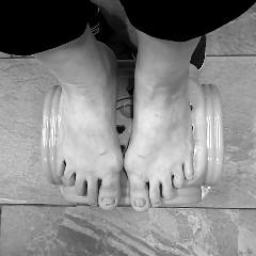Dorsal View -Both Feet-: (20, 9, 234, 228)
